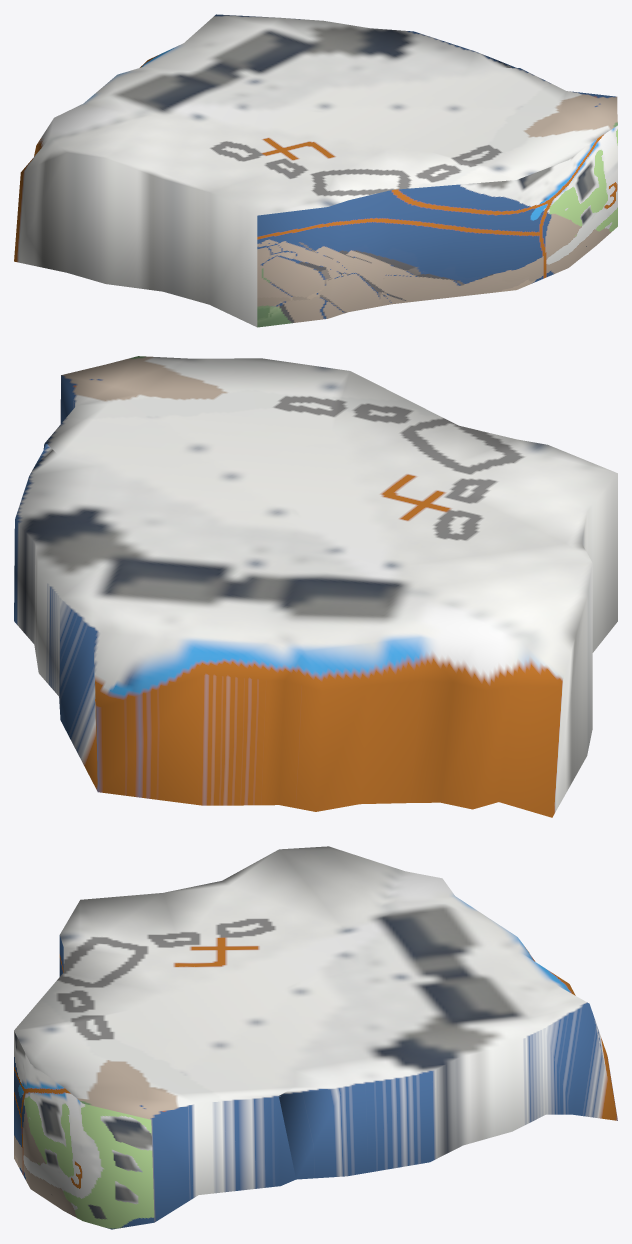
Rendered from cookingFestival.fbx.
3 views of the same model, one above another, from view 1: azimuth 30°, elevation 25°; view 2: azimuth 150°, elevation 25°; view 3: azimuth 270°, elevation 25° (orthographic). The views are drawn at different scales.
Visible parts, largest first — view 1: cookingFestival; view 2: cookingFestival; view 3: cookingFestival.
Part boxes in pixels (bbox=[...]): cookingFestival: bbox=[14, 14, 617, 327]; cookingFestival: bbox=[14, 356, 617, 817]; cookingFestival: bbox=[14, 846, 617, 1229].
Size of the model in its own units: 12439 by 3430 by 11486.
